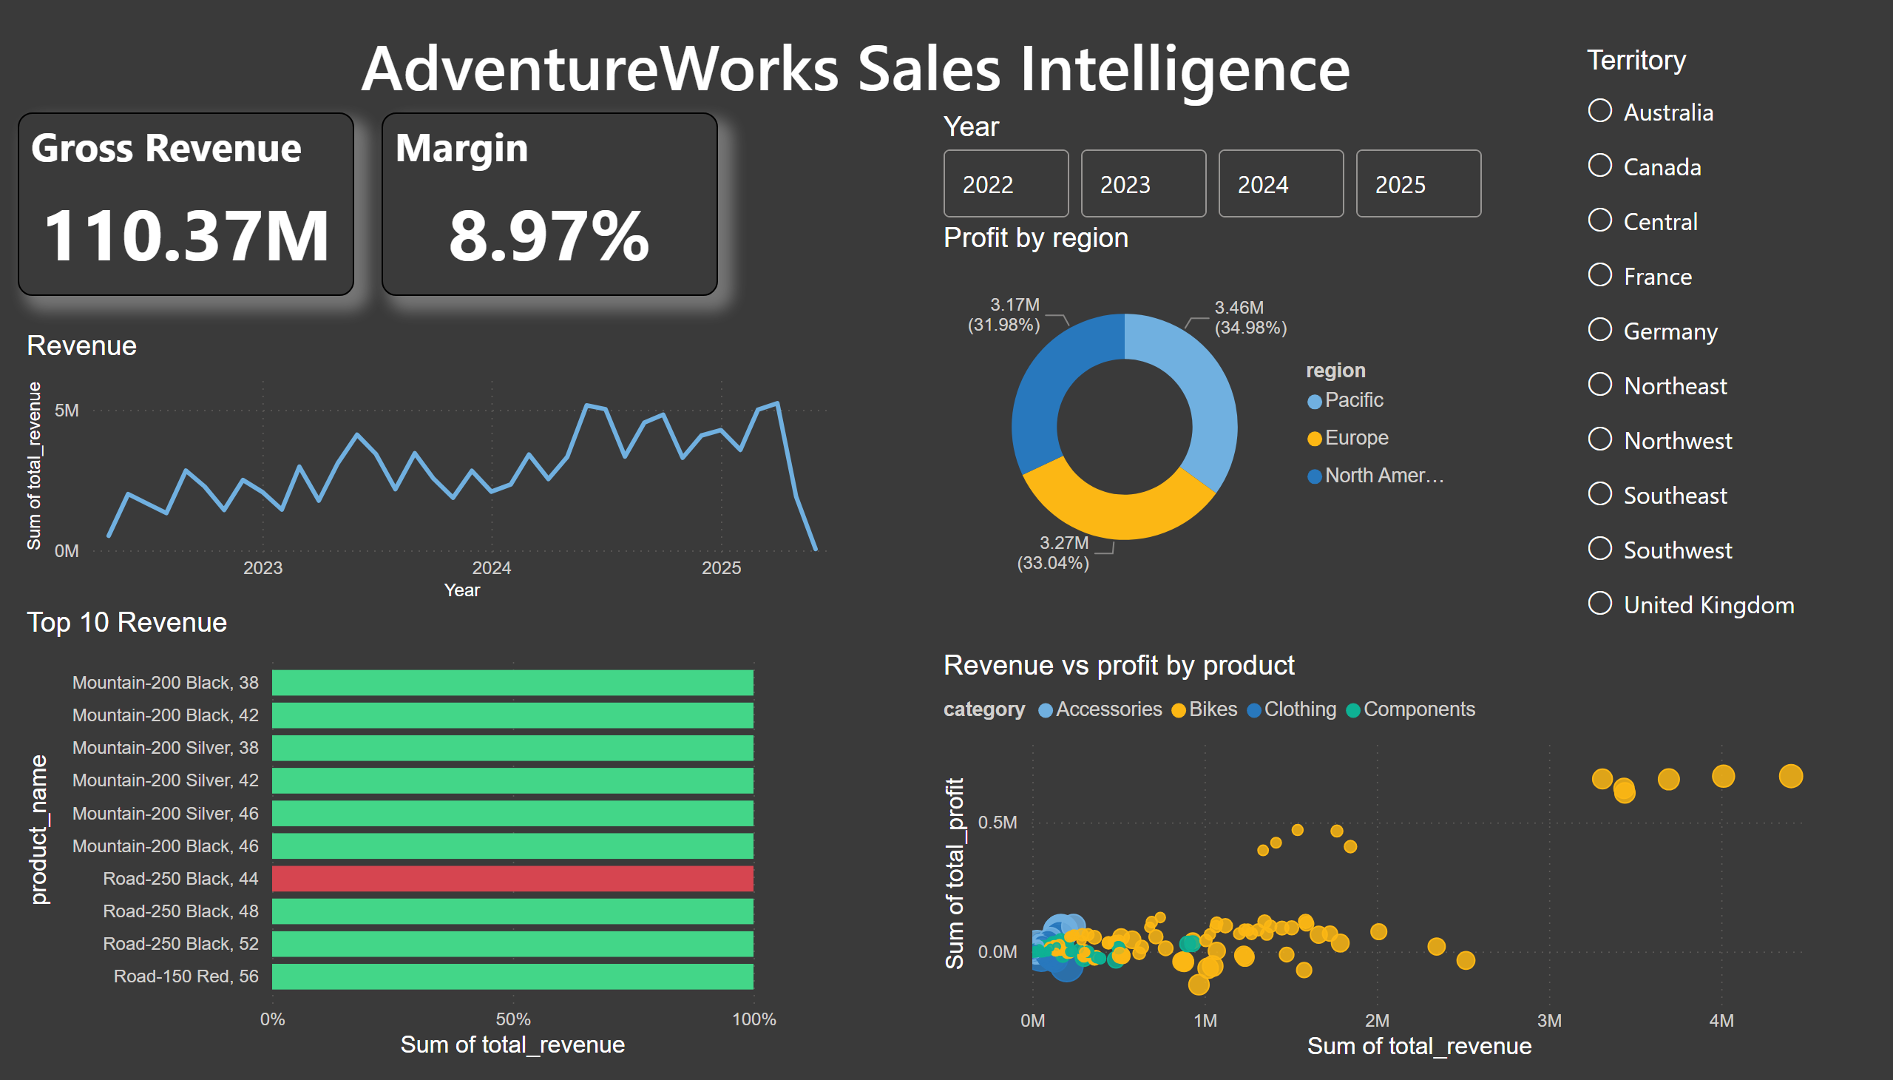

The page's visual inventory and layout, read from the dashboard file:
{"tool":"powerbi","page":{"name":"Page 1","canvas":[1280,720],"ordinal":0},"visuals":[{"type":"hundredPercentStackedBarChart","title":"Top 10 Revenue","fields":{"Category":["sales vw_sales_performance.product_name"],"Y":["Sum(sales vw_sales_performance.total_revenue)"]},"box":[12.5,410,517.5,310],"z":1000},{"type":"lineChart","title":"Revenue","fields":{"Y":["Sum(sales vw_sales_performance.total_revenue)"],"Category":["sales vw_sales_performance.order_date.Variation.Date Hierarchy.Year","sales vw_sales_performance.order_date.Variation.Date Hierarchy.Month"]},"box":[12.5,222.5,557.5,187.5],"z":2000},{"type":"advancedSlicerVisual","fields":{"Values":["sales vw_sales_performance.order_date.Variation.Date Hierarchy.Year"]},"box":[632.5,75,377.5,77.5],"z":3000},{"type":"listSlicer","title":"Territory","fields":{"Values":["sales vw_sales_performance.territory"]},"box":[1067.5,30,167.5,410],"z":4000},{"type":"textbox","title":"AdventureWorks Sales Intelligence","box":[239.4,15.2,700,60.6],"z":4500},{"type":"scatterChart","title":"Revenue vs profit by product","fields":{"Category":["sales vw_sales_performance.product_name"],"X":["Sum(sales vw_sales_performance.total_revenue)"],"Y":["Sum(sales vw_sales_performance.total_profit)"],"Series":["sales vw_sales_performance.category"],"Size":["Sum(sales vw_sales_performance.quantity)"]},"box":[633.3,439.4,603,281.8],"z":5000},{"type":"donutChart","title":"Profit by region","fields":{"Category":["sales vw_sales_performance.region"],"Y":["Sum(sales vw_sales_performance.total_profit)"]},"box":[632.5,150,360,260],"z":6000},{"type":"card","title":"Gross Revenue","fields":{"Values":["Sum(sales vw_sales_performance.total_revenue)"]},"box":[12.1,75.8,227.3,124.2],"z":7000},{"type":"card","title":"Margin","fields":{"Values":["sales vw_sales_performance.Margin"]},"box":[257.6,75.8,227.3,124.2],"z":9000}]}

Visuals, with their boxes in screenshot pixels (x1, y1, x2, y2), scaled from the page's 1280x720 canvas onto the 1894x1080 screenshot:
"Top 10 Revenue" hundredPercentStackedBarChart: bbox=(18, 615, 784, 1079)
"Revenue" lineChart: bbox=(18, 334, 843, 615)
advancedSlicerVisual - sales vw_sales_performance.order_date.Variation.Date Hierarchy.Year: bbox=(936, 112, 1494, 229)
"Territory" listSlicer: bbox=(1580, 45, 1827, 660)
"AdventureWorks Sales Intelligence" textbox: bbox=(354, 23, 1390, 114)
"Revenue vs profit by product" scatterChart: bbox=(937, 659, 1829, 1079)
"Profit by region" donutChart: bbox=(936, 225, 1469, 615)
"Gross Revenue" card: bbox=(18, 114, 354, 300)
"Margin" card: bbox=(381, 114, 718, 300)
